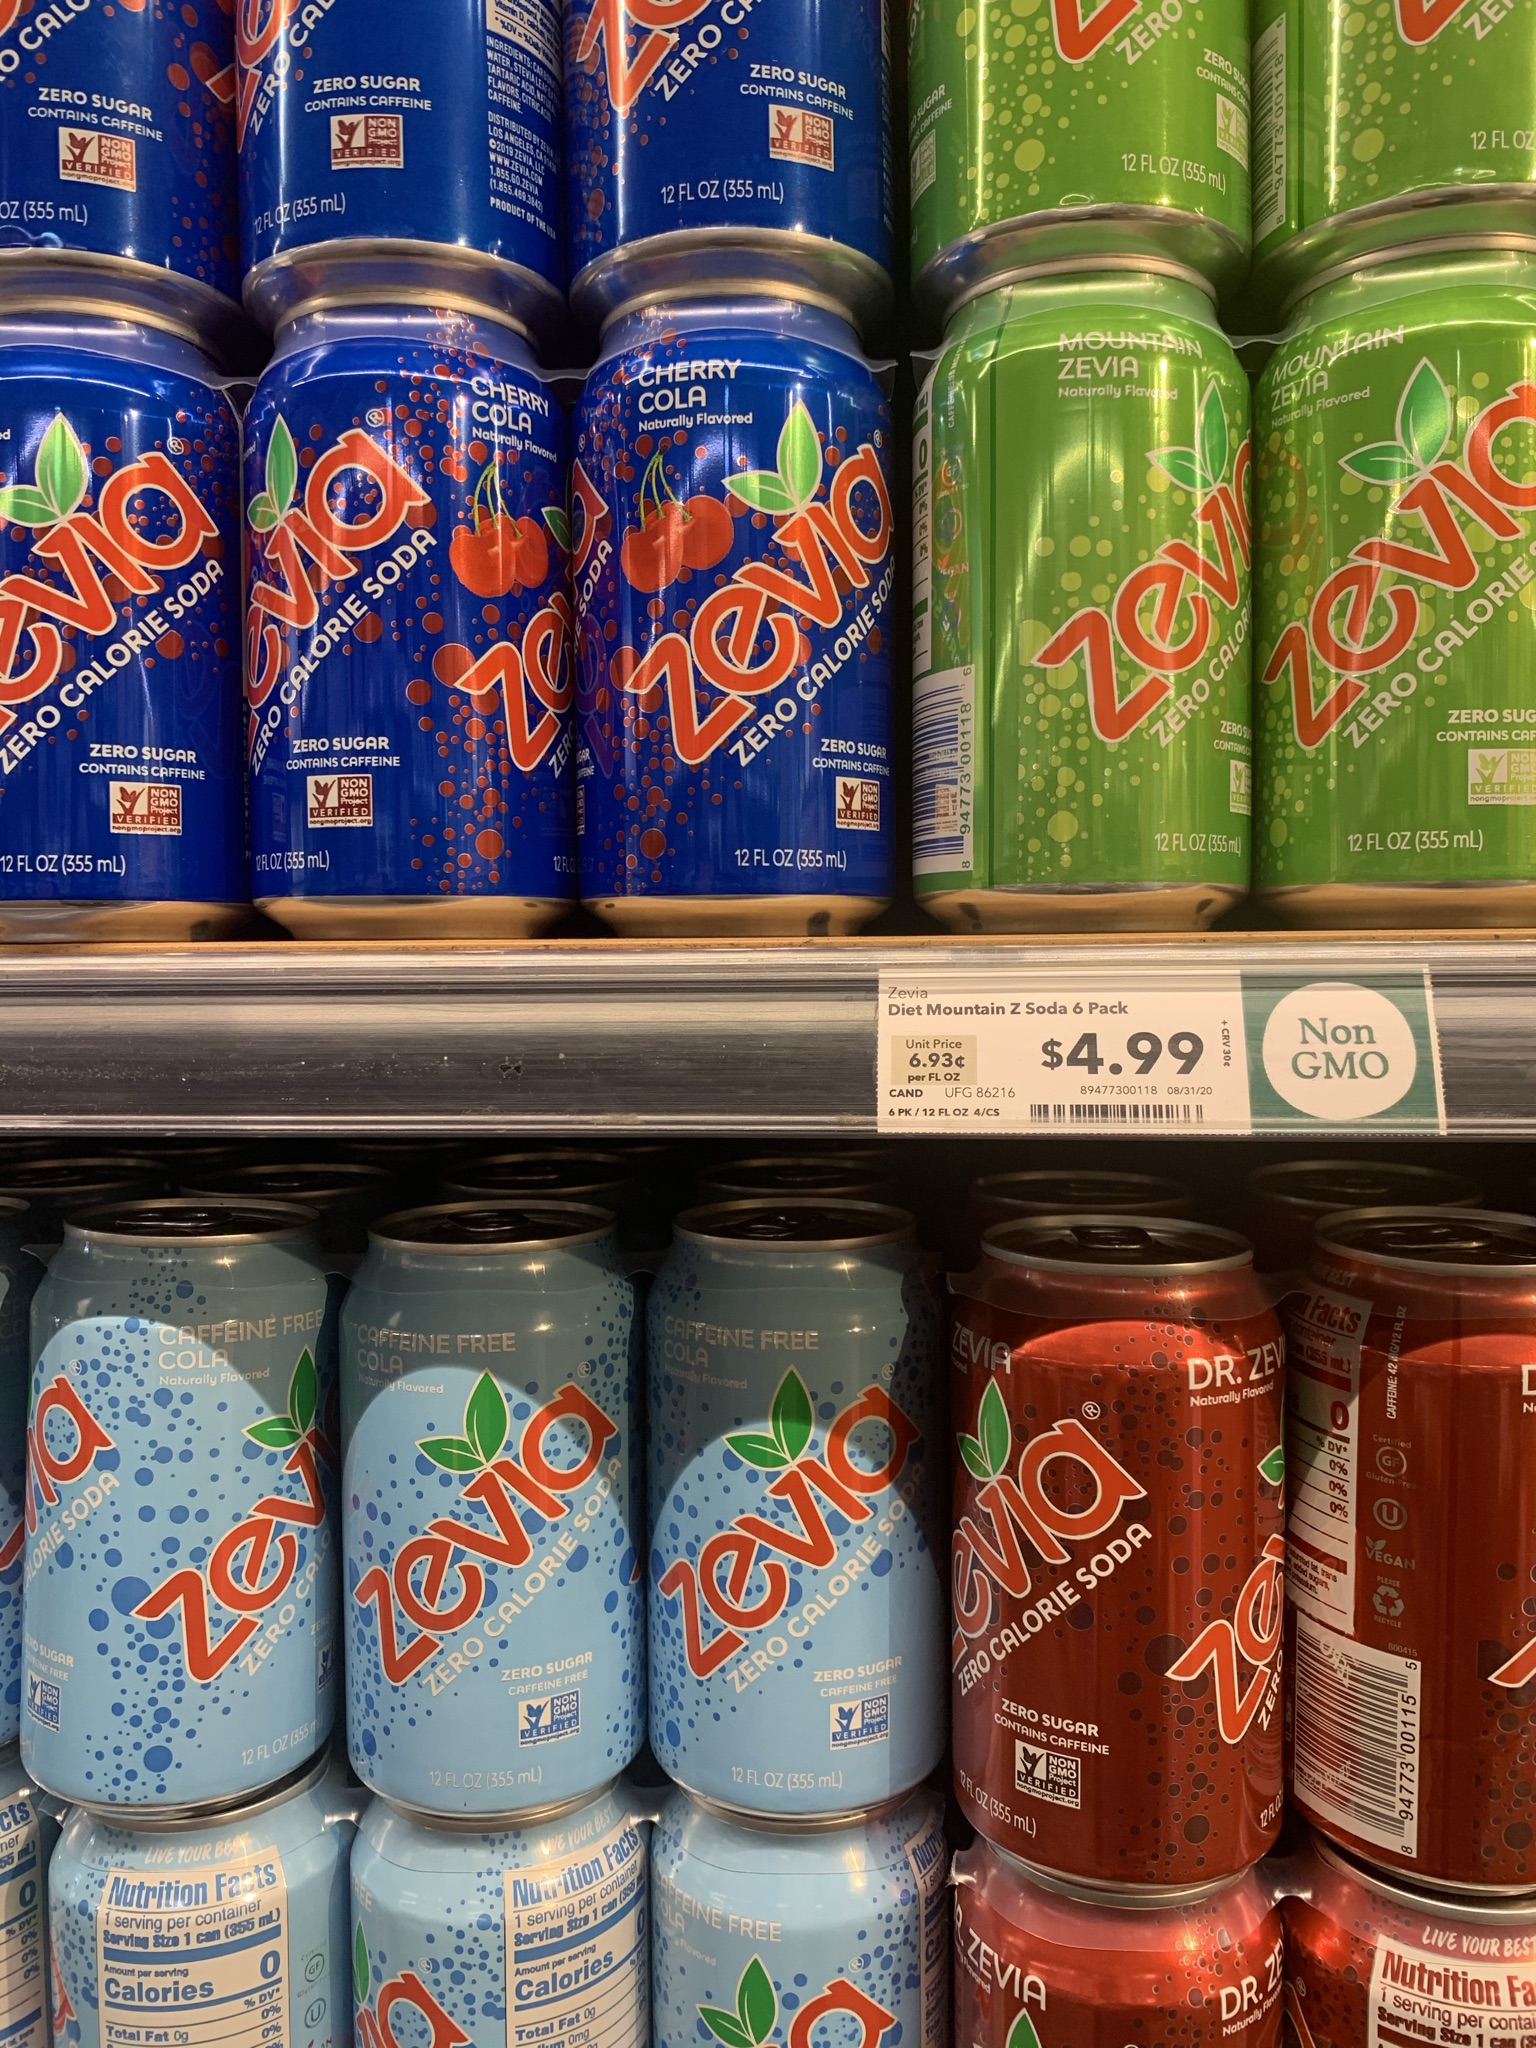can: (907, 255, 1254, 911), (239, 279, 573, 939), (578, 276, 887, 935), (1265, 240, 1536, 926), (978, 1224, 1275, 1838), (645, 1206, 941, 1816), (23, 1214, 328, 1803), (342, 1213, 636, 1817), (2, 289, 226, 935), (1331, 1272, 1536, 1872)
